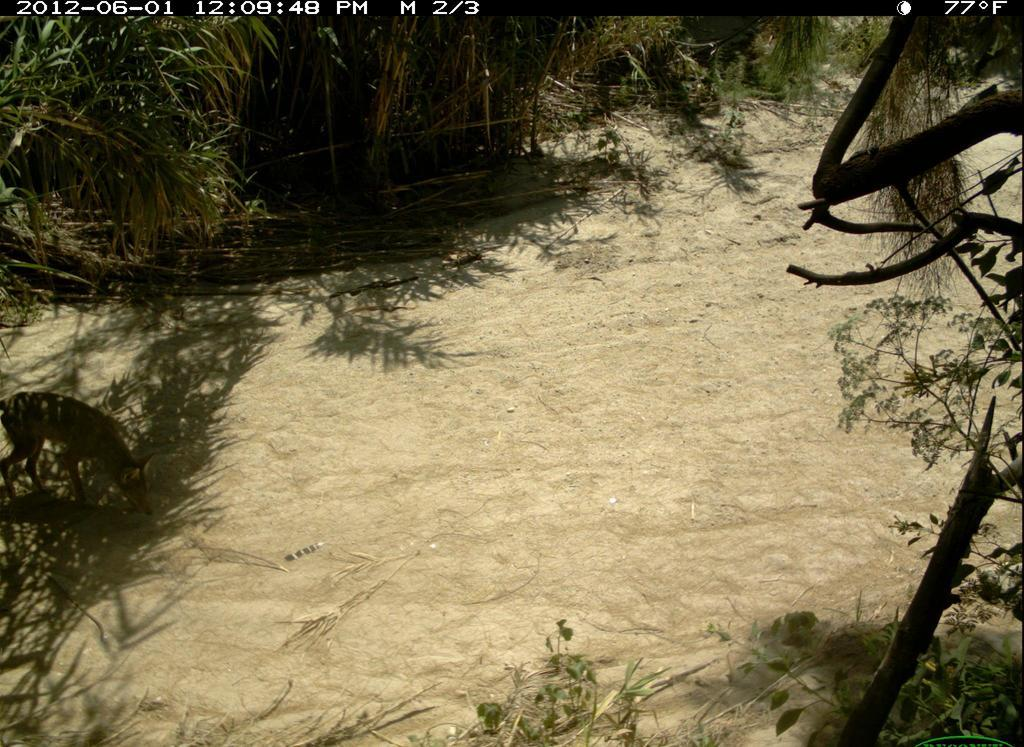coyote: (2, 386, 155, 520)
